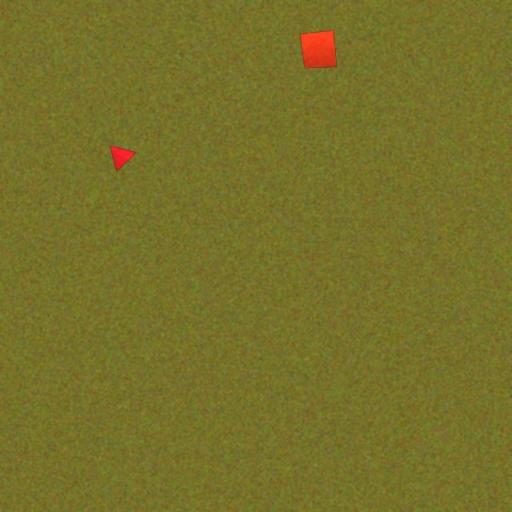RED_SQUARE: (299, 30, 338, 68)
